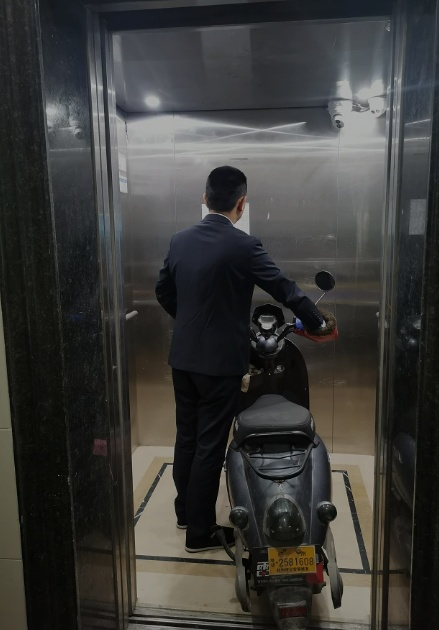ebike: (220, 271, 336, 625)
person: (161, 163, 326, 554)
